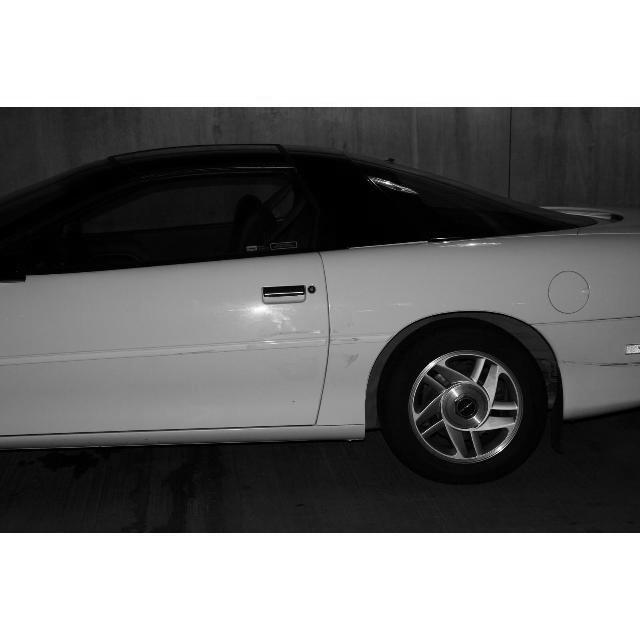quaterpanel-dent: (333, 253, 639, 378)
